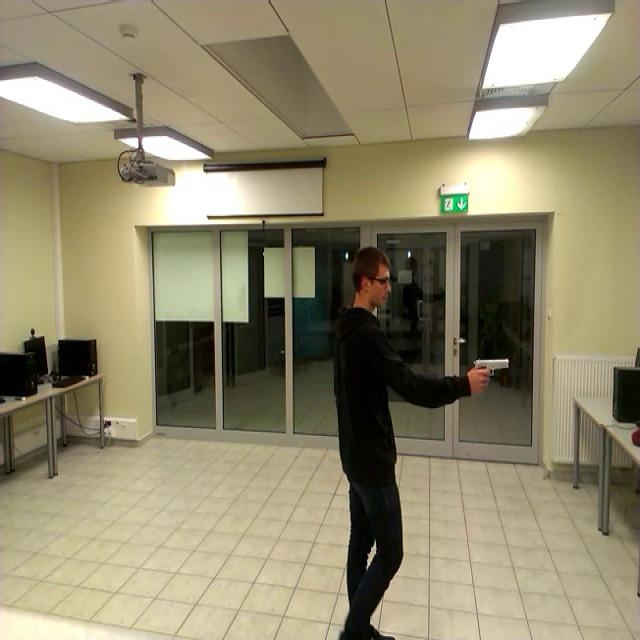handgun: (467, 347, 512, 397)
